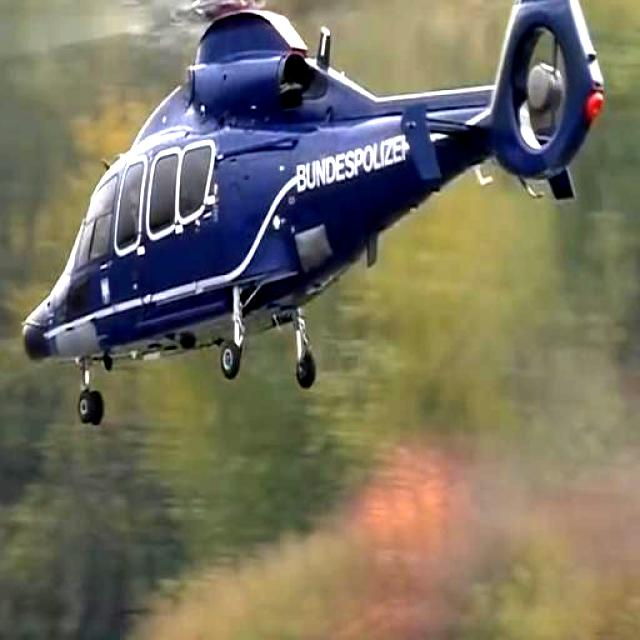drone: (11, 0, 606, 426)
